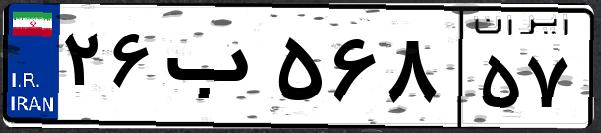2: (57, 26, 110, 100)
5: (270, 28, 330, 110), (475, 38, 525, 113)
6: (330, 28, 385, 110), (110, 28, 158, 98)
7: (525, 38, 570, 115)
8: (385, 28, 445, 110)
ب: (158, 20, 270, 120)
